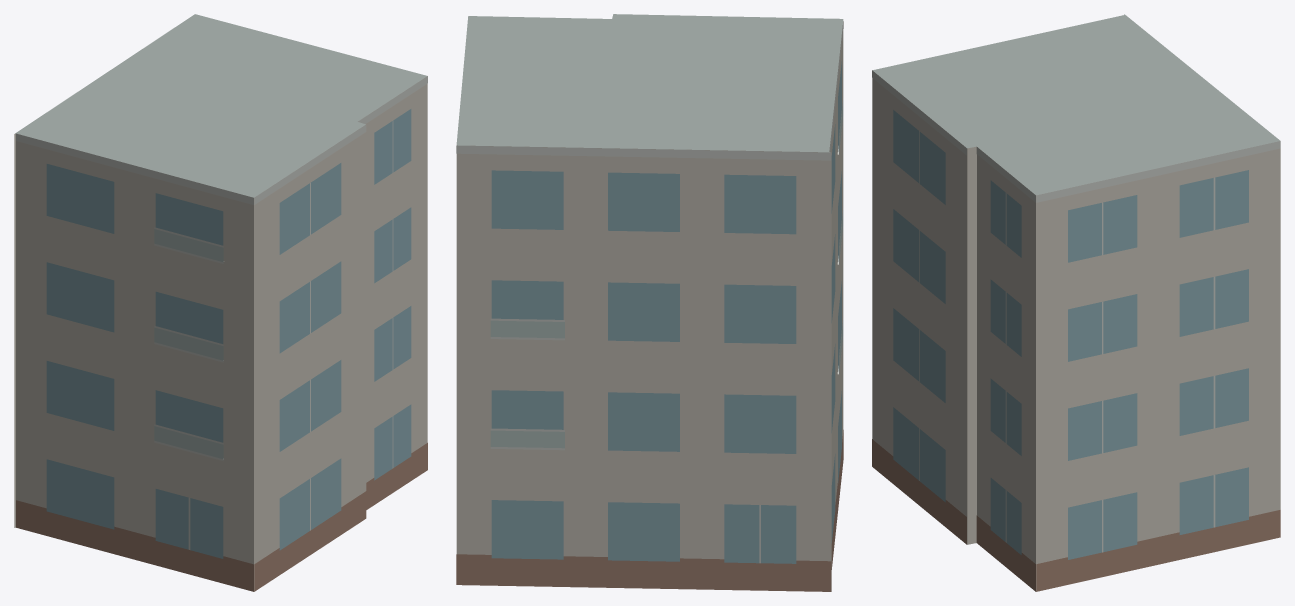
Rendered from survey-upis-32697386.glb.
3 views of the same model, side by side, from view 1: azimuth 30°, elevation 25°; view 2: azimuth 150°, elevation 25°; view 3: azimuth 270°, elevation 25° (orthographic). The views are drawn at different scales.
Parts seen in each view (by area): view 1: survey-upis-32697386.tmp; view 2: survey-upis-32697386.tmp; view 3: survey-upis-32697386.tmp.
Part boxes in pixels (x1,y1,x2,y2): survey-upis-32697386.tmp: (14,14,427,591); survey-upis-32697386.tmp: (456,14,843,591); survey-upis-32697386.tmp: (872,14,1280,591).
Bounding box in the file's own units: 12.67 × 12.9 × 12.06.
